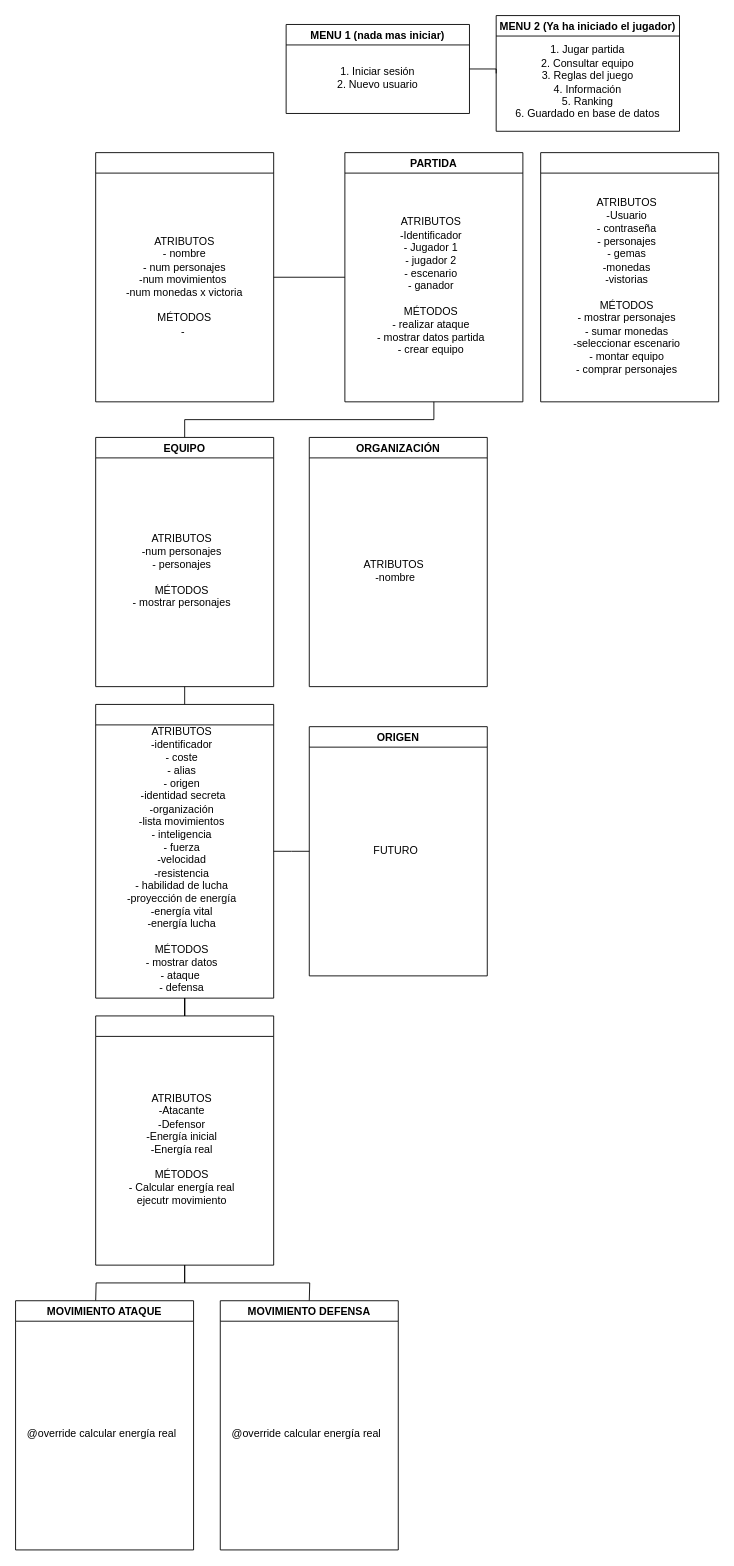
Image size: 734x1566. Some labels were removed from this diagram. The box of each missing label's shape, as (x1, y1, x2, y2) in pixels:
ESCENARIO: (95, 152, 274, 402)
JUGADOR: (540, 152, 719, 402)
MOVIMIENTO (ABS): (95, 1015, 274, 1265)
PERSONAJE: (95, 704, 274, 998)
